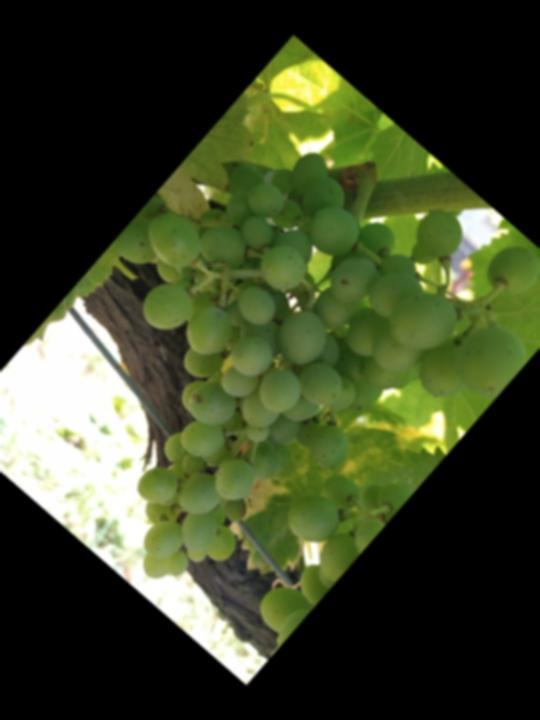grape: (0, 44, 540, 672)
